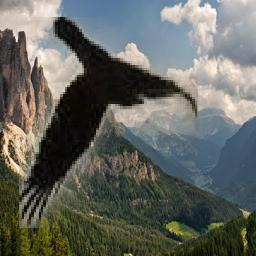Crow: (20, 18, 199, 229)
